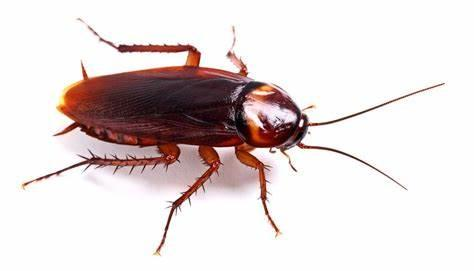cockroach: (54, 41, 320, 203)
